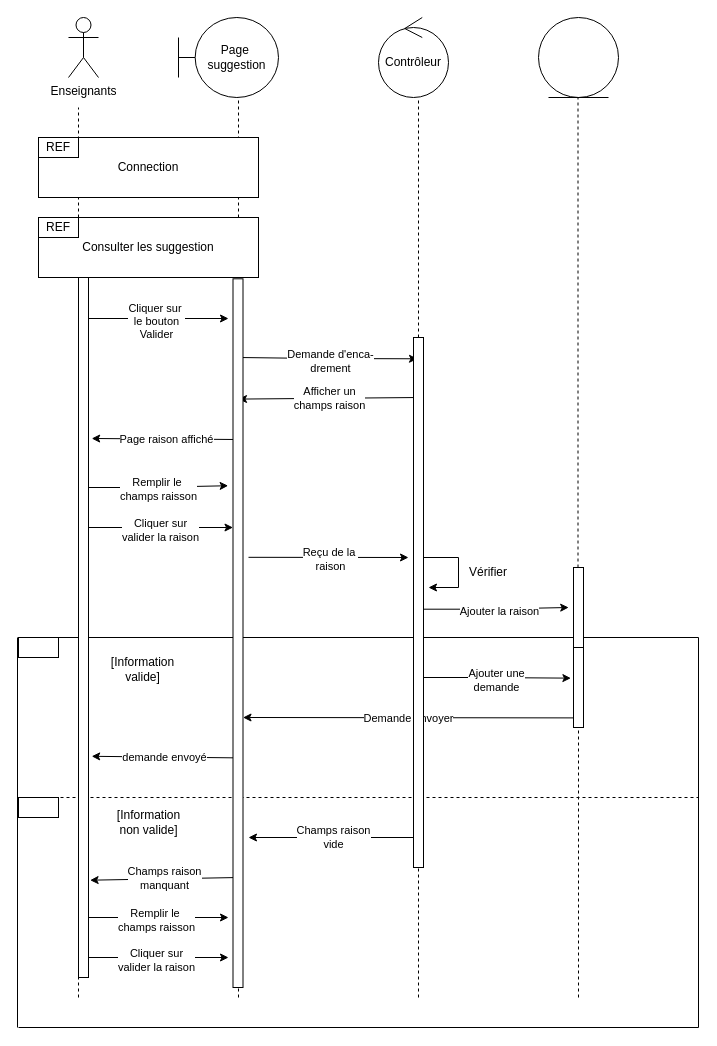
Image size: 717x1046. Some labels were removed from this diagram. The centre of each missing label's shape, as x and y in pixels:
"ALT" goes at [38,647].
"Database" goes at [578,57].
"LOOP" goes at [38,807].
